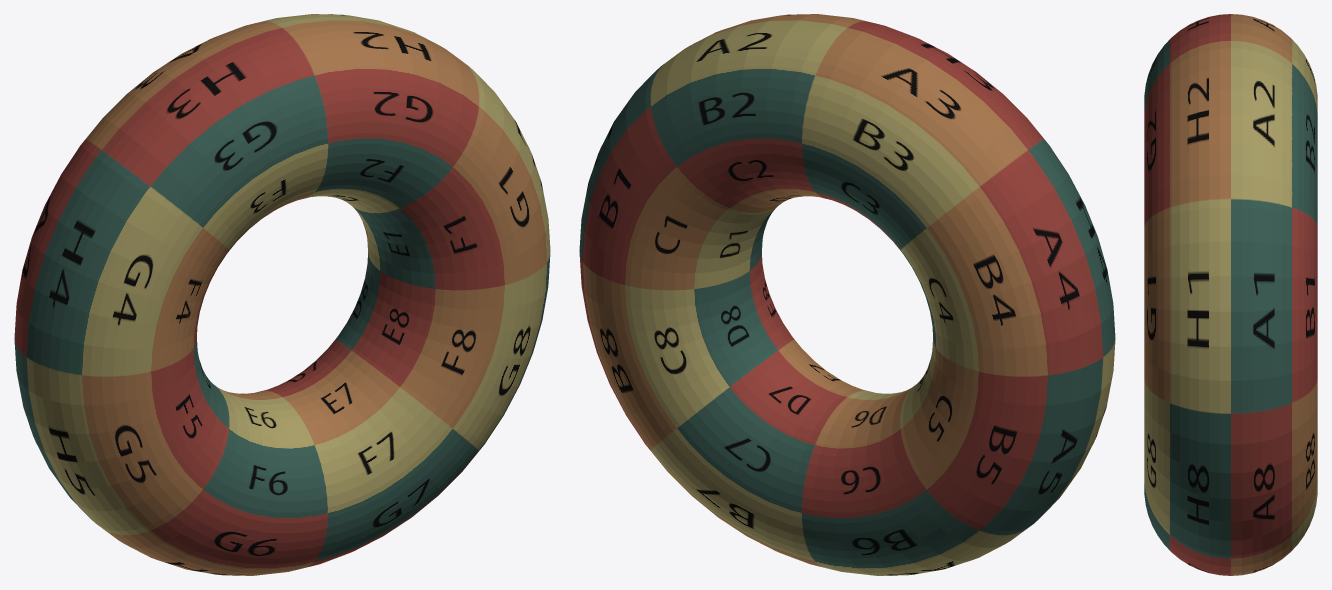
Rendered from texture_torus_R15_r26.glb.
The picture shows the model from 3 angles, left to right: view 1: azimuth 30°, elevation 25°; view 2: azimuth 150°, elevation 25°; view 3: azimuth 270°, elevation 25°; orthographic projection. The views are drawn at different scales.
Visible parts, largest first — view 1: world; view 2: world; view 3: world.
Boxes of the visible parts, bbox=[...] form: world: bbox=[14, 14, 550, 575]; world: bbox=[579, 14, 1115, 575]; world: bbox=[1144, 14, 1317, 575].
Bounding box in the file's own units: 28.93 × 28.88 × 8.92.
Materials: 1 (1 with a texture image).
